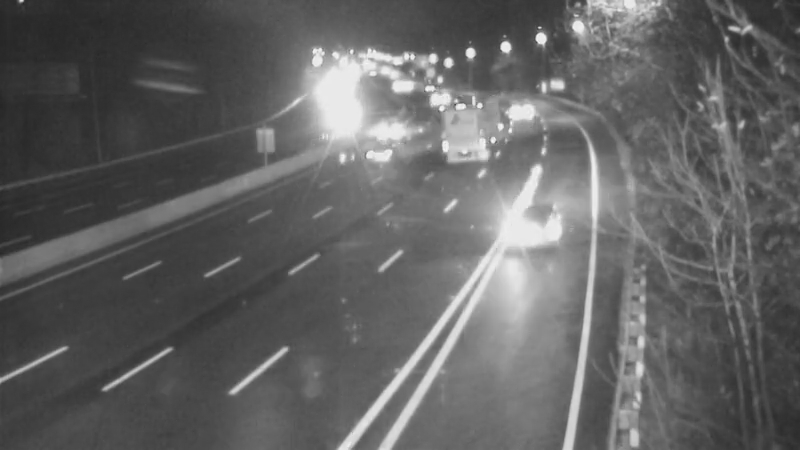vehicle: (338, 112, 418, 192), (503, 191, 583, 271), (415, 74, 465, 124), (494, 81, 544, 131), (441, 100, 491, 150), (375, 102, 425, 152), (310, 92, 360, 142)
